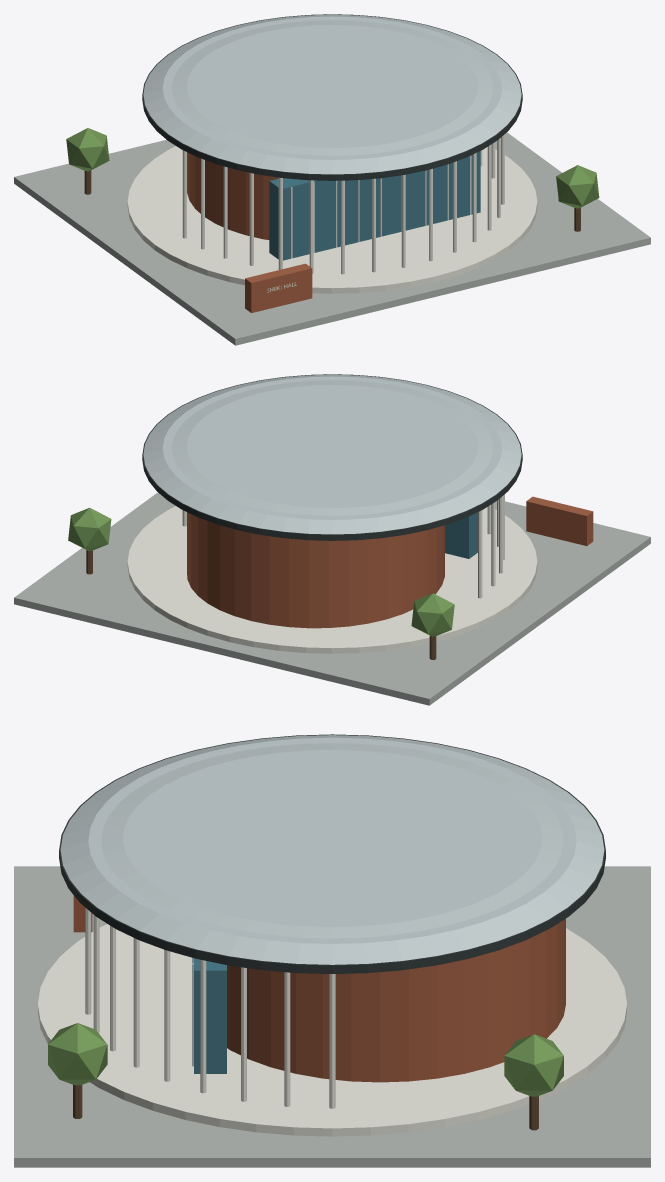
3 views of the same model, one above another, from view 1: azimuth 30°, elevation 25°; view 2: azimuth 150°, elevation 25°; view 3: azimuth 270°, elevation 25° (orthographic). The views are drawn at different scales.
Parts seen in each view (by area): view 1: kyushu-university-shiiki-hall; view 2: kyushu-university-shiiki-hall; view 3: kyushu-university-shiiki-hall.
Part boxes in pixels (bbox=[...]): kyushu-university-shiiki-hall: bbox=[14, 14, 650, 345]; kyushu-university-shiiki-hall: bbox=[14, 374, 650, 705]; kyushu-university-shiiki-hall: bbox=[14, 734, 650, 1167].
Size of the model in its own units: 13 by 3.81 by 12.
